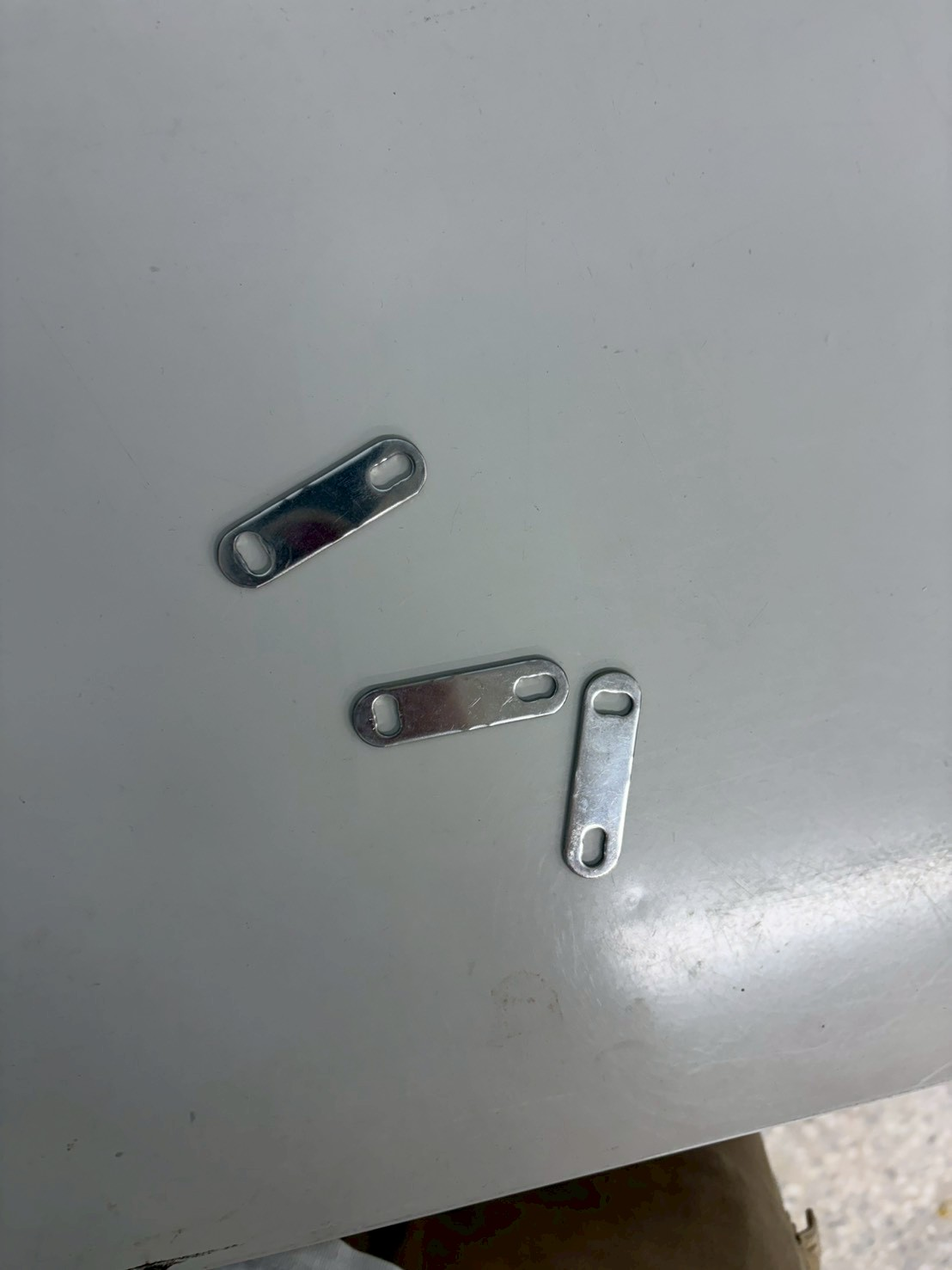Fe: (578, 635, 657, 889), (404, 407, 483, 661), (581, 651, 659, 905), (586, 651, 662, 905), (565, 644, 641, 898), (403, 414, 479, 668)
